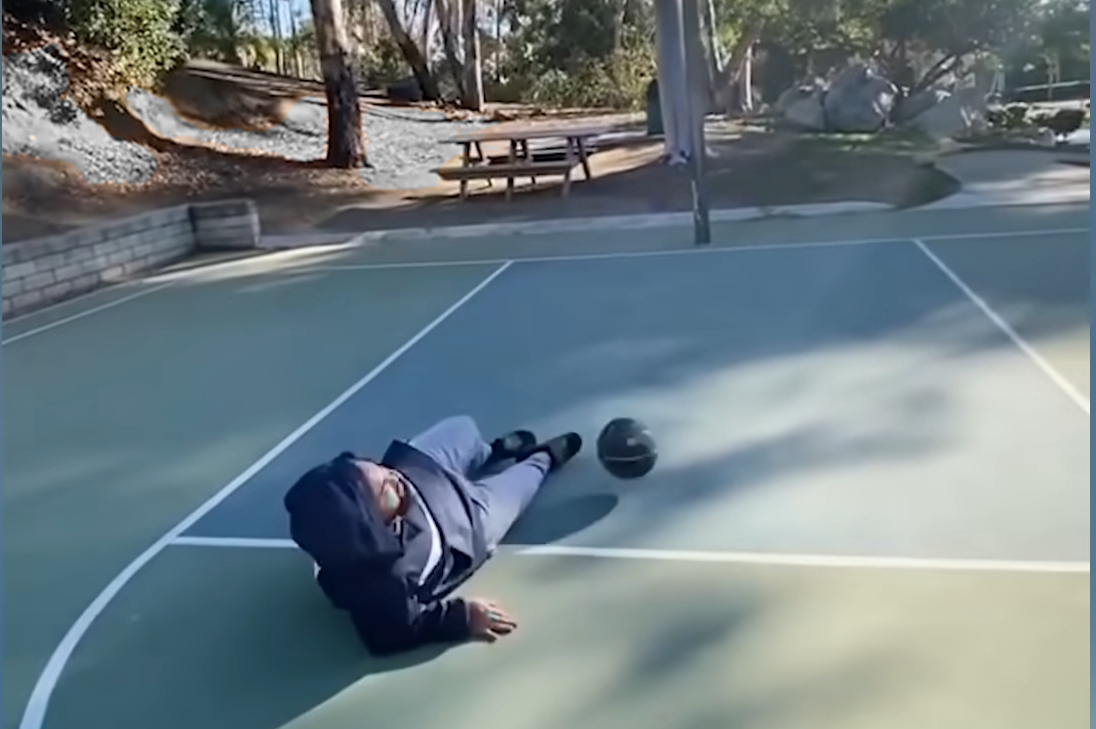fall: (259, 389, 673, 625)
